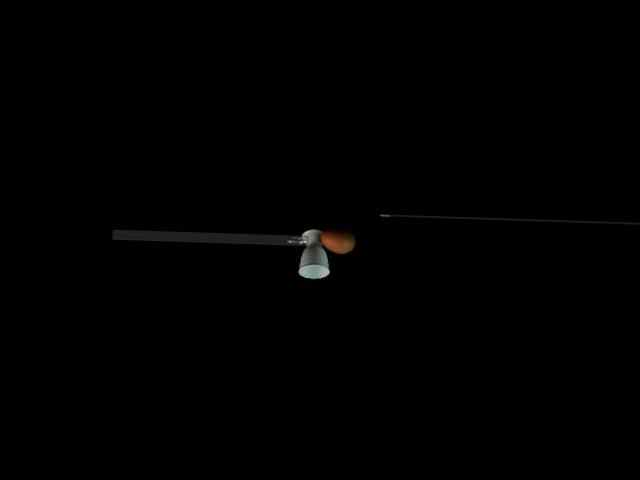egg: (319, 228, 355, 254)
